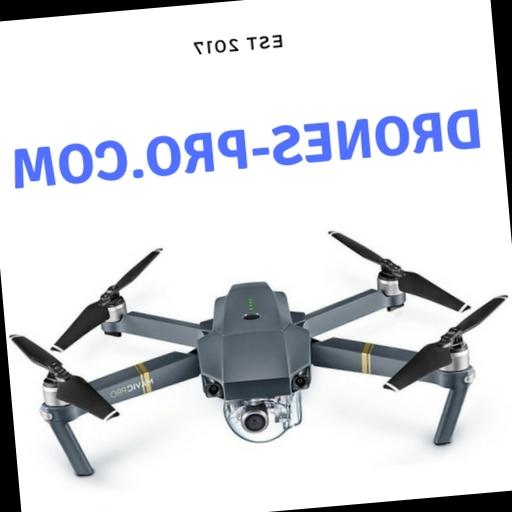drone: (0, 210, 488, 478)
